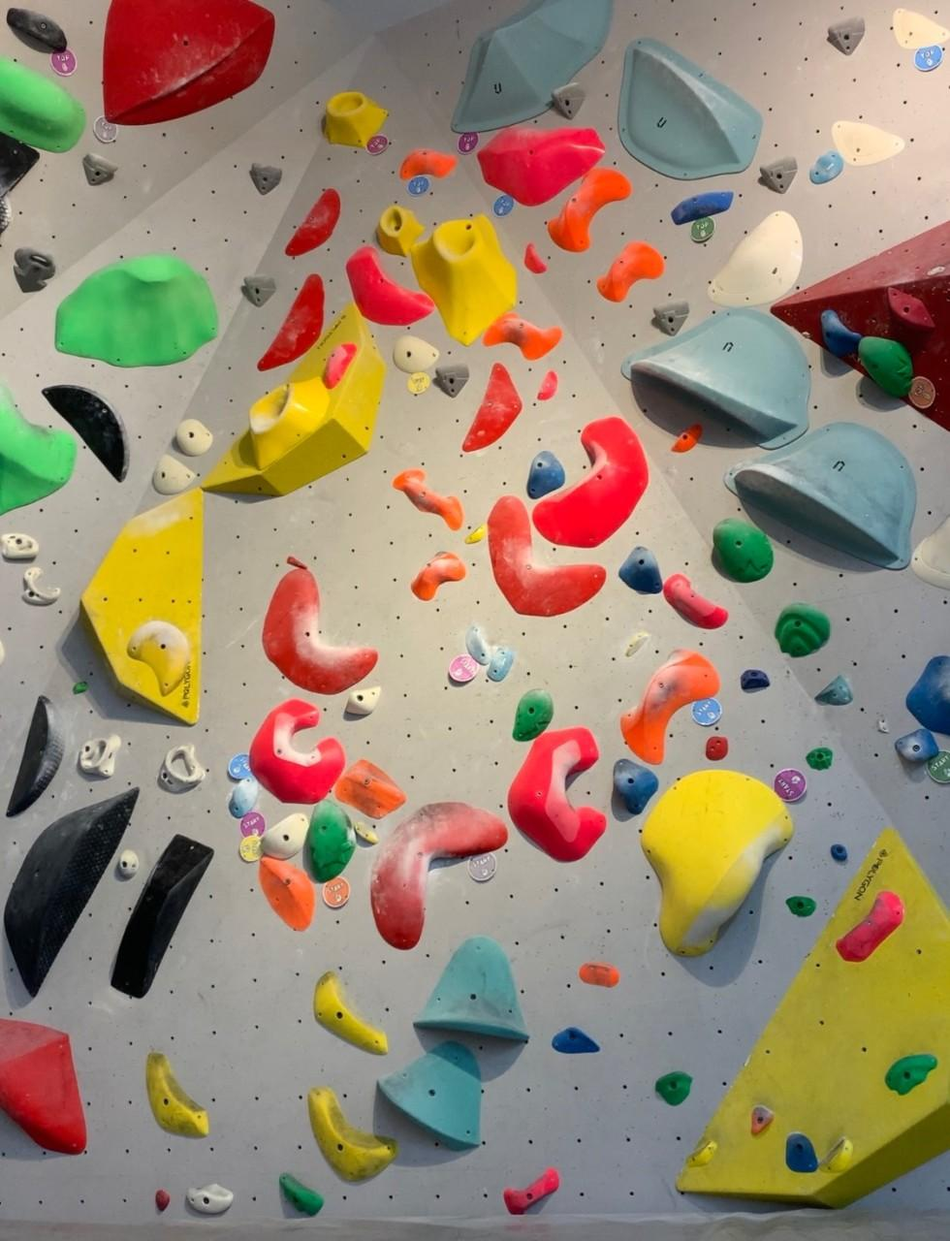hold: (641, 770, 792, 957), (5, 788, 139, 996), (725, 424, 916, 569), (624, 308, 810, 448), (451, 0, 613, 132), (103, 0, 274, 125), (618, 38, 762, 179), (370, 804, 508, 948), (54, 255, 218, 366), (111, 835, 211, 998), (533, 417, 649, 548), (262, 567, 376, 694), (487, 496, 605, 616), (411, 216, 515, 344), (508, 728, 605, 860), (414, 937, 528, 1042), (0, 1018, 86, 1154), (376, 1041, 482, 1150), (621, 649, 717, 764), (249, 699, 345, 803), (0, 385, 76, 515), (478, 128, 604, 206), (709, 210, 803, 306), (43, 385, 128, 482), (308, 1087, 397, 1179), (0, 56, 85, 149), (250, 379, 330, 468), (346, 246, 433, 326), (7, 696, 64, 816), (549, 168, 629, 252), (258, 273, 325, 370), (313, 972, 386, 1054), (461, 364, 522, 452), (145, 1052, 208, 1136), (836, 890, 904, 962), (129, 620, 190, 695), (333, 759, 406, 818), (596, 241, 664, 304), (305, 800, 356, 882), (394, 469, 461, 530), (259, 857, 315, 929), (712, 519, 774, 582), (484, 312, 562, 360), (285, 190, 340, 257), (322, 91, 387, 147), (664, 574, 727, 629), (906, 656, 949, 736), (858, 336, 912, 397), (833, 121, 903, 164), (775, 604, 829, 656), (411, 552, 465, 601), (503, 1167, 559, 1214), (613, 758, 659, 815), (376, 205, 424, 257), (6, 8, 65, 49), (158, 745, 206, 793), (669, 191, 734, 226), (892, 9, 949, 48), (618, 545, 663, 594), (885, 1054, 937, 1095), (513, 690, 553, 742), (262, 813, 307, 858), (821, 309, 861, 359), (888, 289, 934, 332), (14, 247, 55, 293), (79, 734, 120, 779), (527, 451, 565, 498), (153, 454, 196, 495), (551, 1018, 602, 1052), (394, 334, 438, 373), (280, 1175, 321, 1216), (402, 149, 456, 179), (323, 342, 357, 389), (894, 727, 938, 761), (173, 419, 212, 457), (759, 156, 797, 194), (827, 17, 865, 55), (186, 1184, 233, 1214), (22, 567, 59, 605), (817, 1136, 852, 1174), (786, 1133, 819, 1173), (655, 1071, 692, 1105), (652, 301, 689, 335), (229, 779, 259, 818), (809, 150, 843, 183), (434, 365, 469, 397), (552, 83, 584, 118), (815, 675, 852, 705), (0, 533, 39, 561), (242, 274, 275, 307), (82, 155, 116, 185), (343, 687, 379, 715), (250, 163, 281, 195), (578, 963, 619, 987), (466, 626, 491, 665), (487, 648, 513, 682), (670, 425, 701, 452), (687, 1139, 716, 1165), (750, 1105, 774, 1135), (115, 849, 139, 879), (523, 243, 547, 273), (623, 631, 649, 657), (741, 669, 770, 691), (537, 370, 557, 401), (807, 747, 833, 770), (787, 897, 816, 917), (354, 821, 378, 844), (407, 372, 430, 395), (706, 736, 728, 760), (465, 525, 487, 545), (155, 1190, 170, 1212), (831, 843, 845, 862)
volume: (677, 831, 949, 1207), (772, 221, 949, 430), (203, 305, 385, 495), (82, 489, 202, 724)
